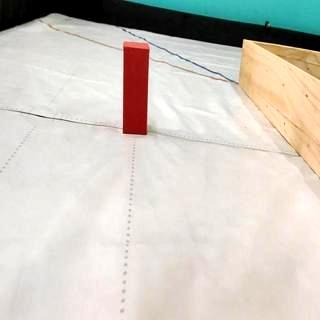redbox: (122, 39, 148, 134)
